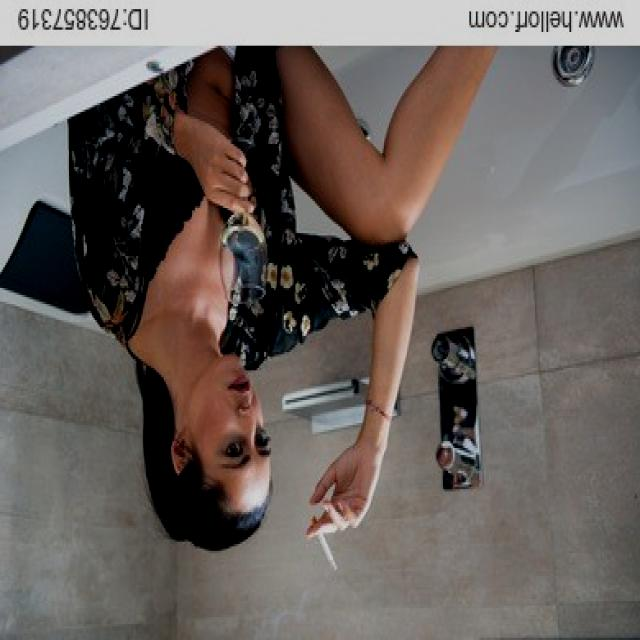smoke: (308, 514, 338, 574)
